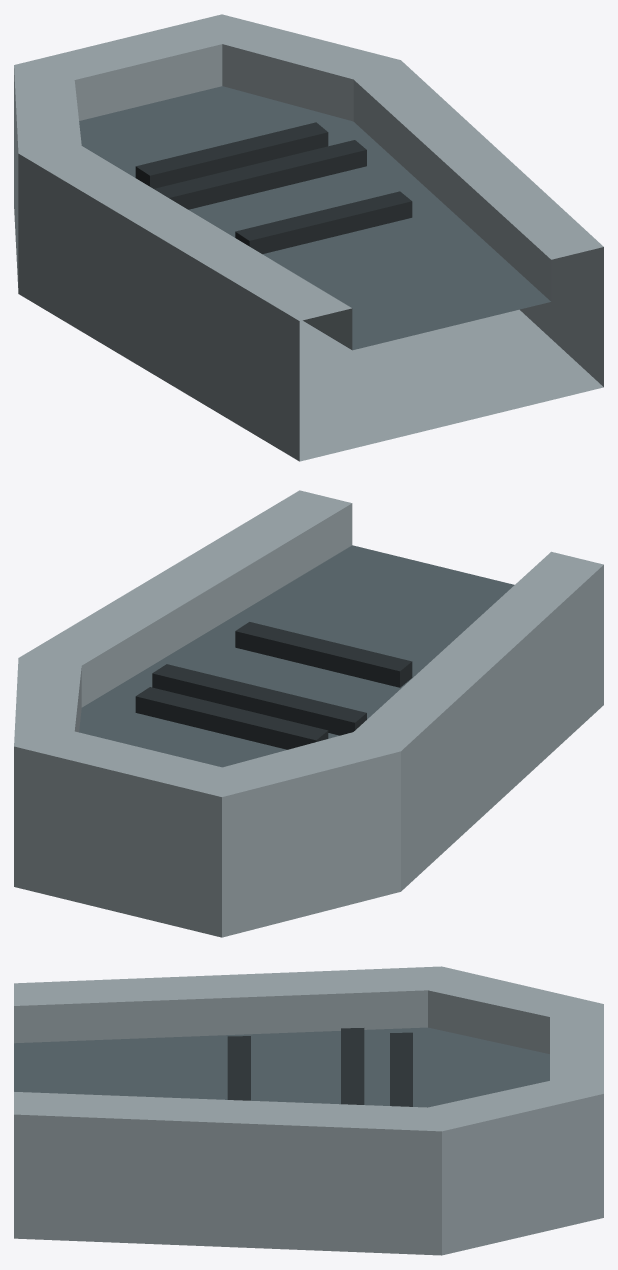
Rendered from Tombstone 01.FBX.
The picture shows the model from 3 angles, top to bottom: view 1: azimuth 30°, elevation 25°; view 2: azimuth 150°, elevation 25°; view 3: azimuth 270°, elevation 25°; orthographic projection. The views are drawn at different scales.
Visible parts, largest first — view 1: Tombstone 01; view 2: Tombstone 01; view 3: Tombstone 01.
Boxes of the visible parts, bbox=[...] form: Tombstone 01: bbox=[14, 14, 603, 461]; Tombstone 01: bbox=[14, 490, 603, 937]; Tombstone 01: bbox=[14, 966, 603, 1255].
Bounding box in the file's own units: 56.71 × 19.9 × 85.74.
